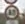limite 40: (3, 4, 19, 19)
